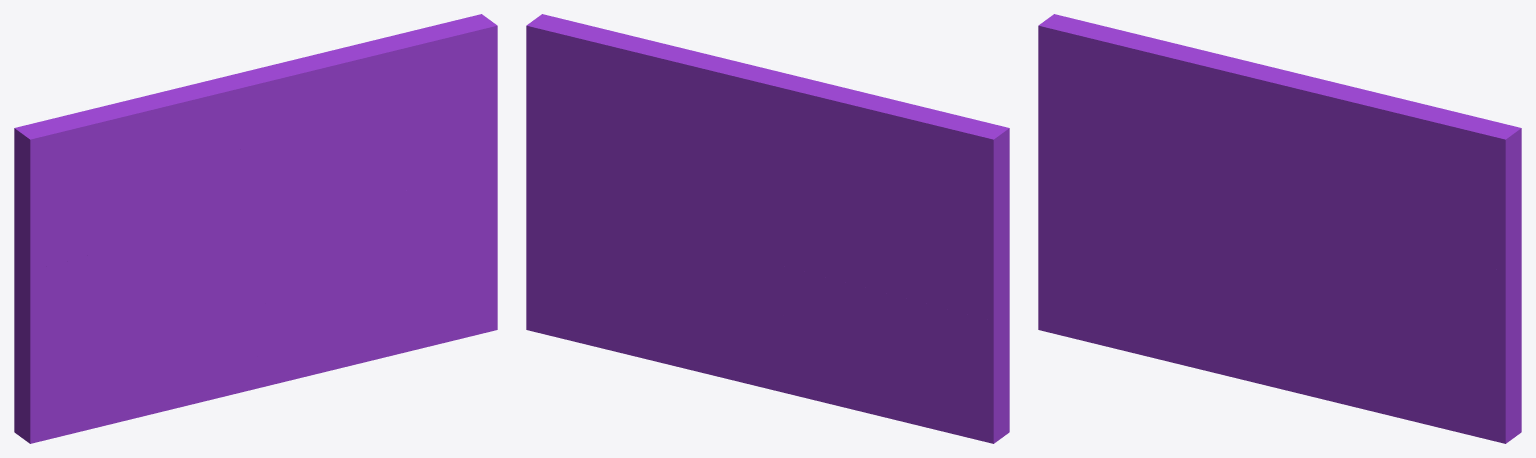
File: Barrier_122_chunks.fbx
The picture shows the model from 3 angles, left to right: view 1: azimuth 30°, elevation 25°; view 2: azimuth 150°, elevation 25°; view 3: azimuth 330°, elevation 25°; orthographic projection.
Visible parts, largest first — view 1: Barrier_122_0, Barrier_122_2, Barrier_122_1, Barrier_122_5, Barrier_122_6, Barrier_122_3, Barrier_122_4; view 2: Barrier_122_1, Barrier_122_2, Barrier_122_0, Barrier_122_5, Barrier_122_6, Barrier_122_4; view 3: Barrier_122_0, Barrier_122_2, Barrier_122_1, Barrier_122_5, Barrier_122_6, Barrier_122_3, Barrier_122_4.
Part boxes in pixels (x1,y1,x2,y2): Barrier_122_0: (14,216,274,443); Barrier_122_2: (253,156,497,389); Barrier_122_1: (14,81,239,308); Barrier_122_5: (351,14,497,203); Barrier_122_6: (193,36,398,153); Barrier_122_3: (215,131,359,228); Barrier_122_4: (260,184,369,238); Barrier_122_1: (748,88,1009,321); Barrier_122_2: (526,140,794,395); Barrier_122_0: (776,260,1009,443); Barrier_122_5: (526,14,671,184); Barrier_122_6: (618,38,845,164); Barrier_122_4: (647,139,771,222); Barrier_122_0: (1038,157,1282,383); Barrier_122_2: (1261,243,1521,443); Barrier_122_1: (1038,14,1247,203); Barrier_122_5: (1360,105,1521,270); Barrier_122_6: (1201,61,1429,173); Barrier_122_3: (1223,130,1367,231); Barrier_122_4: (1268,227,1377,255).
Size of the model in its own units: 462 by 288 by 27.2.
